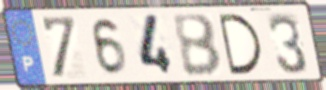3: (267, 10, 309, 76)
4: (137, 12, 179, 80)
6: (89, 17, 130, 77)
7: (42, 15, 80, 82)
B: (170, 12, 225, 78)
D: (215, 12, 266, 77)
